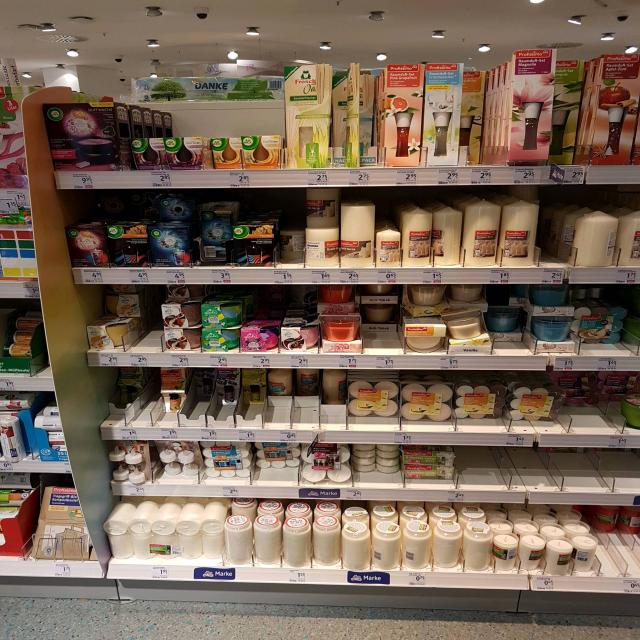empty: (458, 434, 640, 506), (537, 188, 576, 272)
